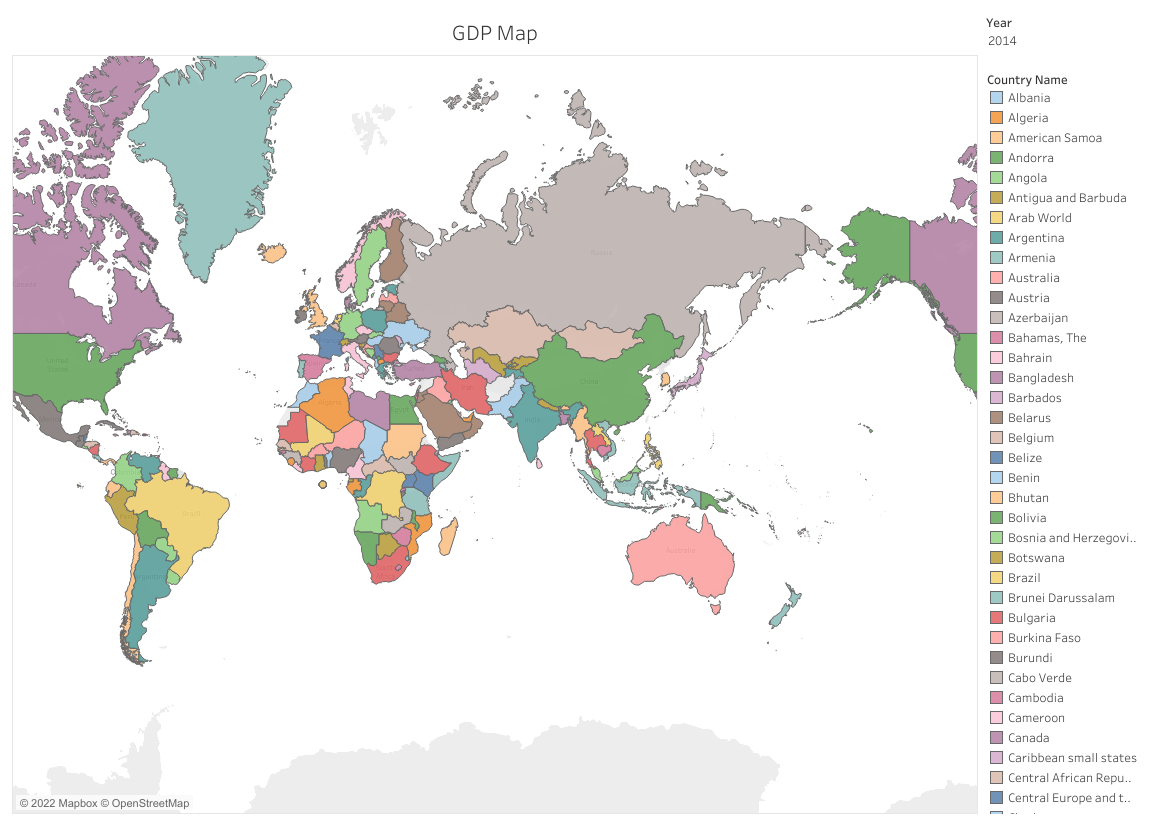

Layout of this report page (visuals, bound fields, positions):
{"tool":"tableau","page":{"name":"World GDP record","canvas":[1000,1000],"units":"permille","ordinal":0},"visuals":[{"type":"worksheet","title":"GDP Map","mark":"Multipolygon","box":[7,13.9,845.5,972.2]},{"type":"filter","title":"GDP Map","param":"[federated.03e58pq0v6q5yd1ai6dbn1mkqlzs].[none:Year:ok]","box":[852.5,13.9,140.5,90.3]},{"type":"legend","title":"GDP Map","param":"[federated.03e58pq0v6q5yd1ai6dbn1mkqlzs].[none:Country Name:nk]","box":[852.5,104.2,140.5,881.9]}]}

Visuals, with their boxes on the dashboard's canvas, which has no fixed pixel size, in thousandths of its width and height (x1, y1, x2, y2). These are canvas units, not pixel positions in the 1149x825 screenshot, which may show the page scaled, cropped or inside an application window:
"GDP Map" worksheet (Multipolygon marks): (7,14,852,986)
"GDP Map" filter: (852,14,993,104)
"GDP Map" legend: (852,104,993,986)
